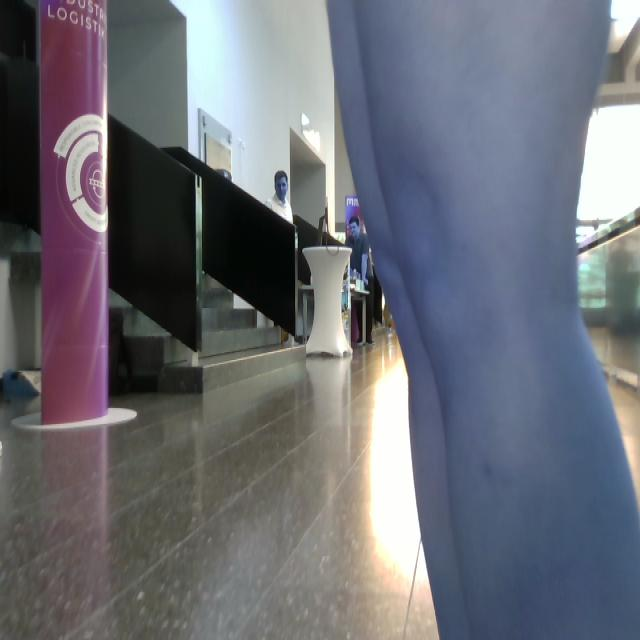door: (197, 108, 283, 358)
person: (345, 216, 375, 345), (265, 170, 294, 225)
pillar: (38, 1, 111, 425)
table: (300, 244, 357, 364)
tiled floor: (1, 320, 639, 638)
